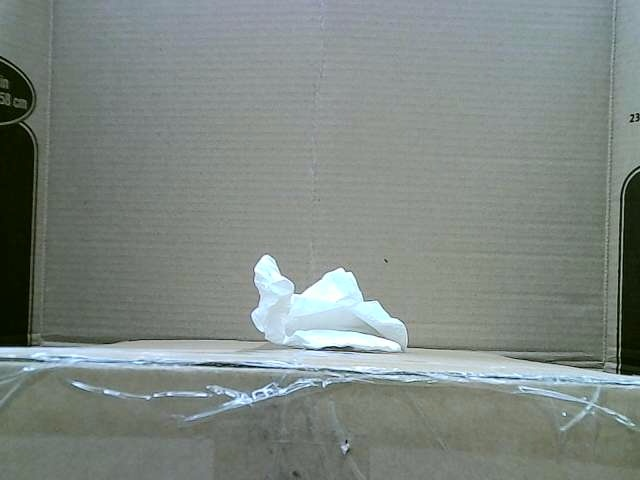Tissue: (248, 252, 411, 353)
